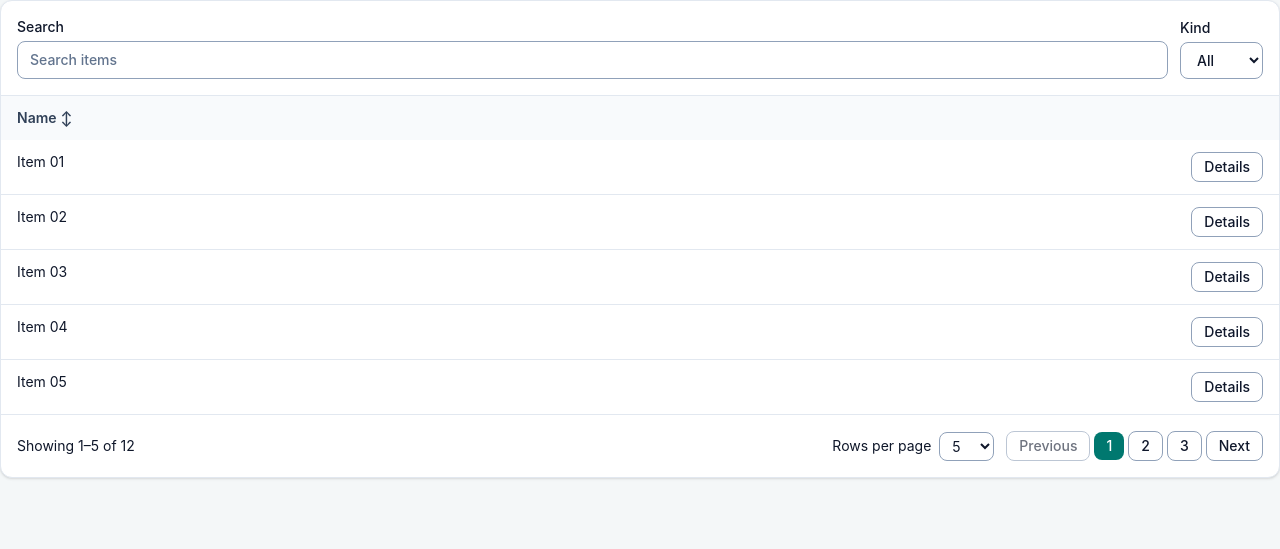
DataTable › sorts with aria-sort and expands details accessibly
Click the button "Name ↕" at (45, 118), box [17, 108, 72, 128]
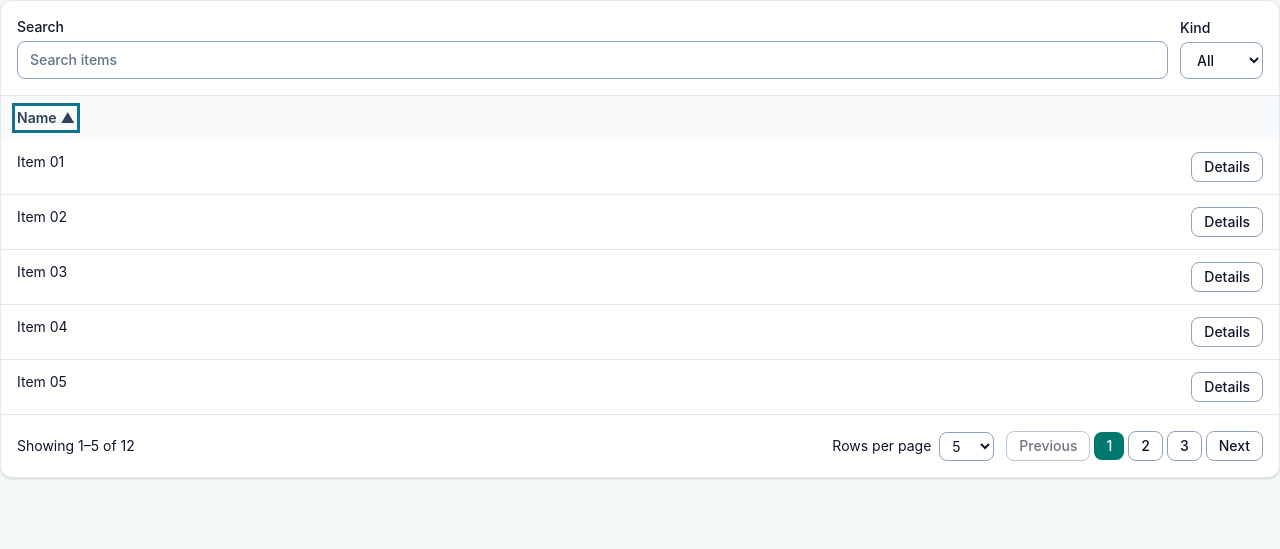
Check: the column heading "Name ▲" has attribute aria-sort="ascending", box [1, 96, 595, 140]
Click the button "Name ▲" at (46, 118), box [17, 108, 75, 128]
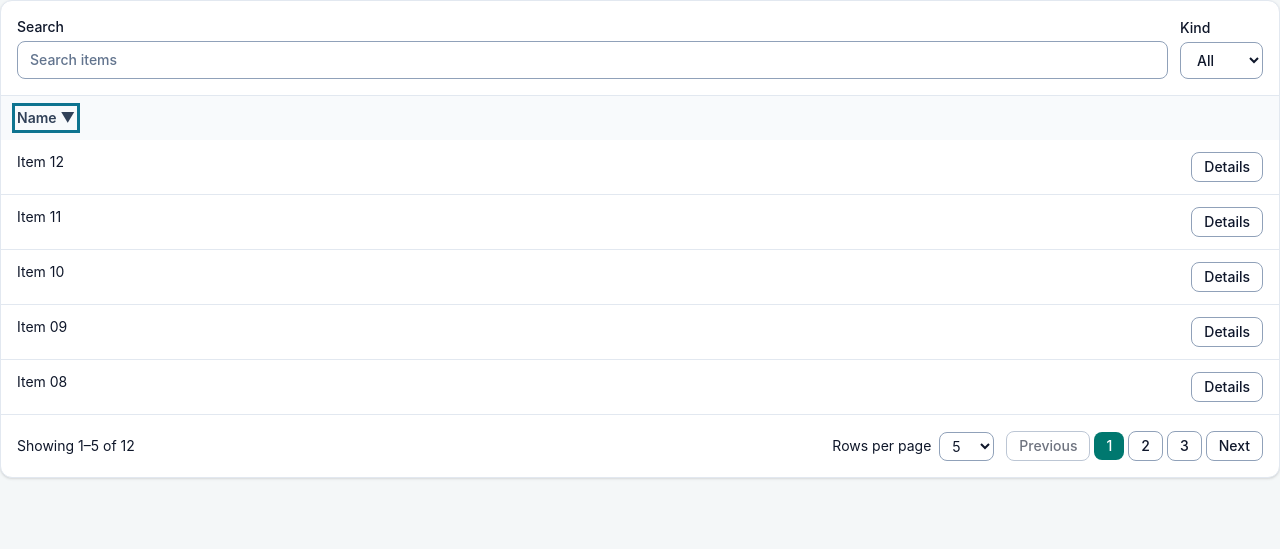
Check: the text "Item 12" is shown, box [1, 140, 595, 194]
Click the button "Details" in the row of "Item 12" at (1227, 167), box [1191, 152, 1263, 182]
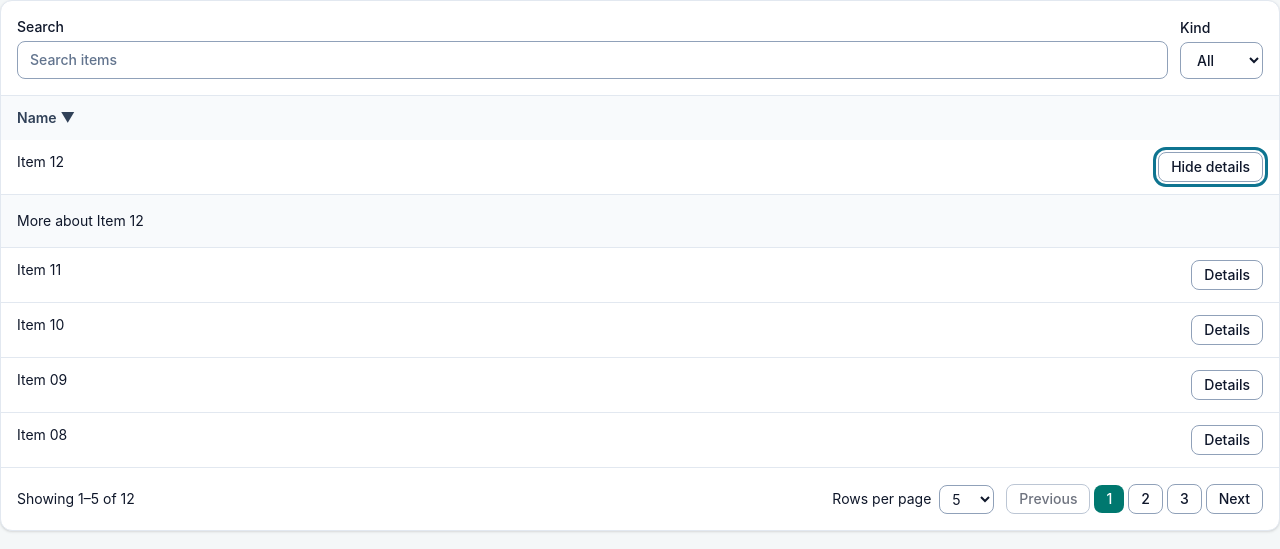
Check: the button "Hide details" is expanded, box [1158, 152, 1263, 182]
Check: the text "More about Item 12" is shown, box [17, 212, 144, 229]
